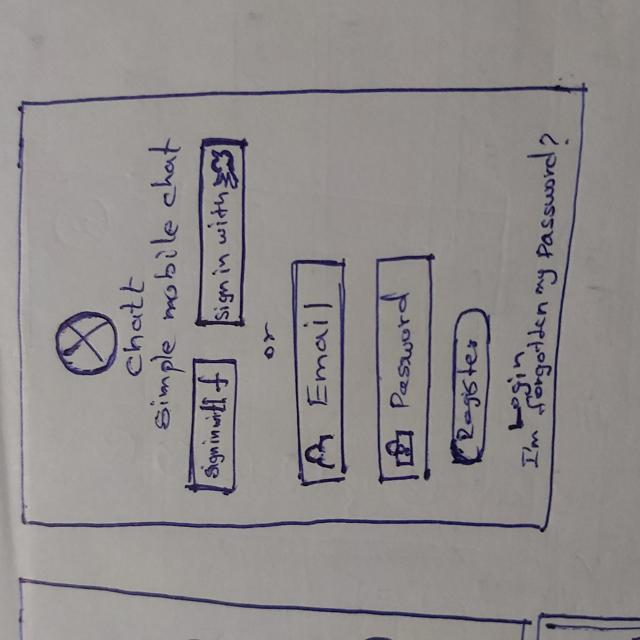Button: (196, 133, 248, 331), (188, 354, 242, 495), (447, 304, 492, 472)
EditText: (291, 255, 352, 485), (373, 251, 432, 483)
Icon: (301, 432, 339, 475), (387, 431, 421, 474), (209, 146, 239, 193)
MainLayout: (13, 83, 591, 536)
RoundedImage: (53, 310, 119, 376)
TextView: (517, 128, 551, 469), (154, 141, 178, 430), (121, 277, 146, 383), (509, 351, 526, 434), (258, 324, 282, 362)
